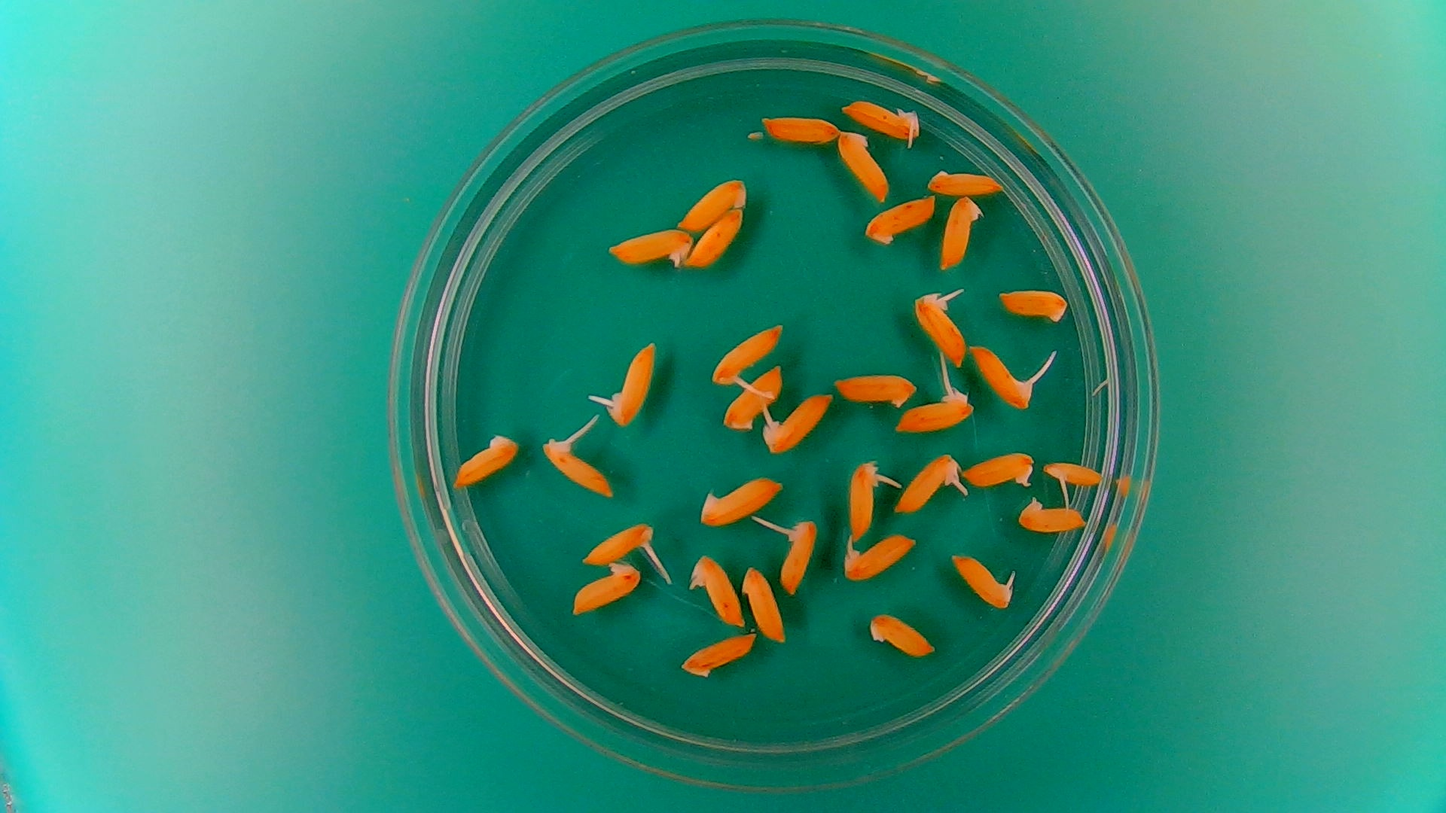no: (605, 227, 707, 277), (720, 363, 787, 432), (675, 172, 751, 232), (697, 476, 781, 528), (834, 129, 891, 205), (860, 193, 938, 248), (685, 206, 748, 272), (450, 433, 520, 491), (938, 191, 986, 272), (829, 368, 920, 410), (571, 564, 642, 617), (679, 629, 759, 676), (741, 566, 788, 646), (865, 609, 938, 659), (758, 110, 840, 145), (996, 285, 1069, 324), (1015, 494, 1088, 532), (923, 169, 1003, 197)
yes: (706, 327, 780, 387), (541, 437, 612, 497), (948, 553, 1019, 611), (609, 338, 657, 422), (892, 453, 956, 516), (691, 556, 745, 629), (915, 295, 969, 367), (577, 519, 652, 569), (840, 99, 921, 145), (764, 394, 829, 451), (976, 348, 1033, 410), (892, 394, 974, 434), (844, 536, 916, 580), (778, 518, 819, 594), (963, 450, 1036, 489), (846, 462, 880, 536), (1040, 460, 1102, 486)
